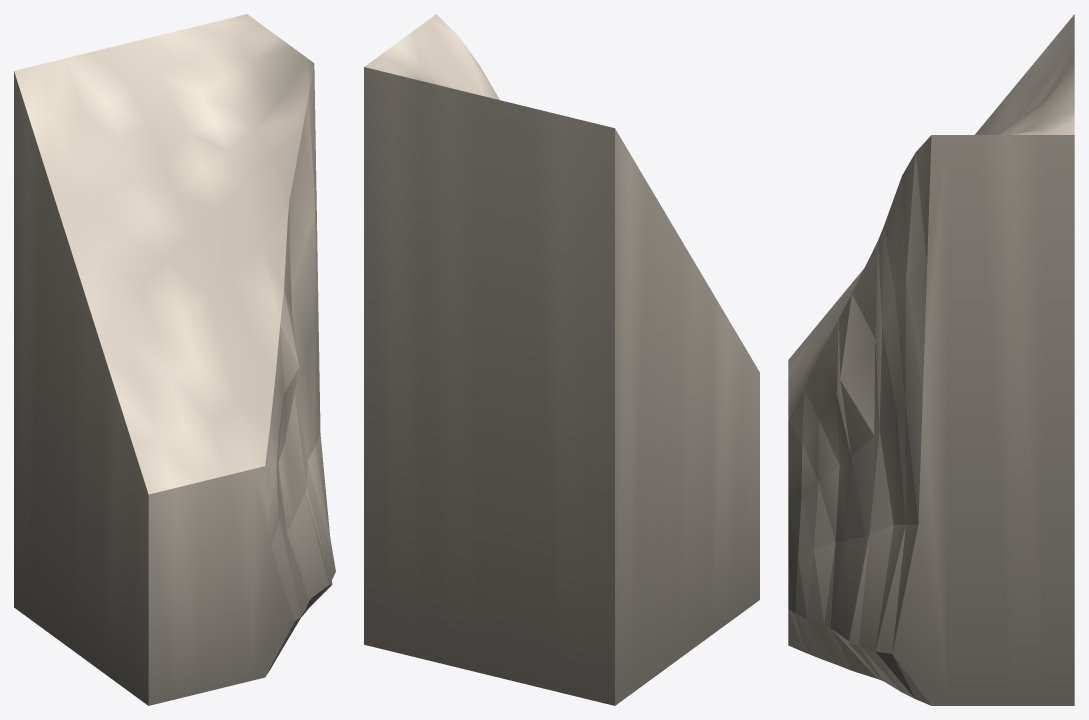
Rendered from SM_VKI_Rock_Cave_COFF_A.fbx.
3 views of the same model, side by side, from view 1: azimuth 30°, elevation 25°; view 2: azimuth 150°, elevation 25°; view 3: azimuth 270°, elevation 25° (orthographic). The views are drawn at different scales.
Visible parts, largest first — view 1: SM_VKI_Rock_Cave_COFF_A.001; view 2: SM_VKI_Rock_Cave_COFF_A.001; view 3: SM_VKI_Rock_Cave_COFF_A.001.
Boxes of the visible parts, left/top/right/bottom form: SM_VKI_Rock_Cave_COFF_A.001: left=14, top=14, right=335, bottom=705; SM_VKI_Rock_Cave_COFF_A.001: left=364, top=14, right=759, bottom=705; SM_VKI_Rock_Cave_COFF_A.001: left=788, top=14, right=1074, bottom=705.
Bounding box in the file's own units: 1.5 × 3.3 × 1.5.
